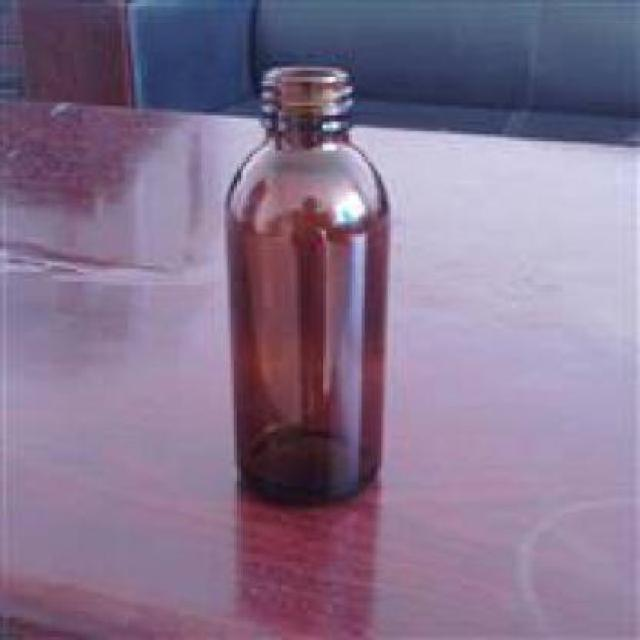kaca: (225, 62, 382, 503)
